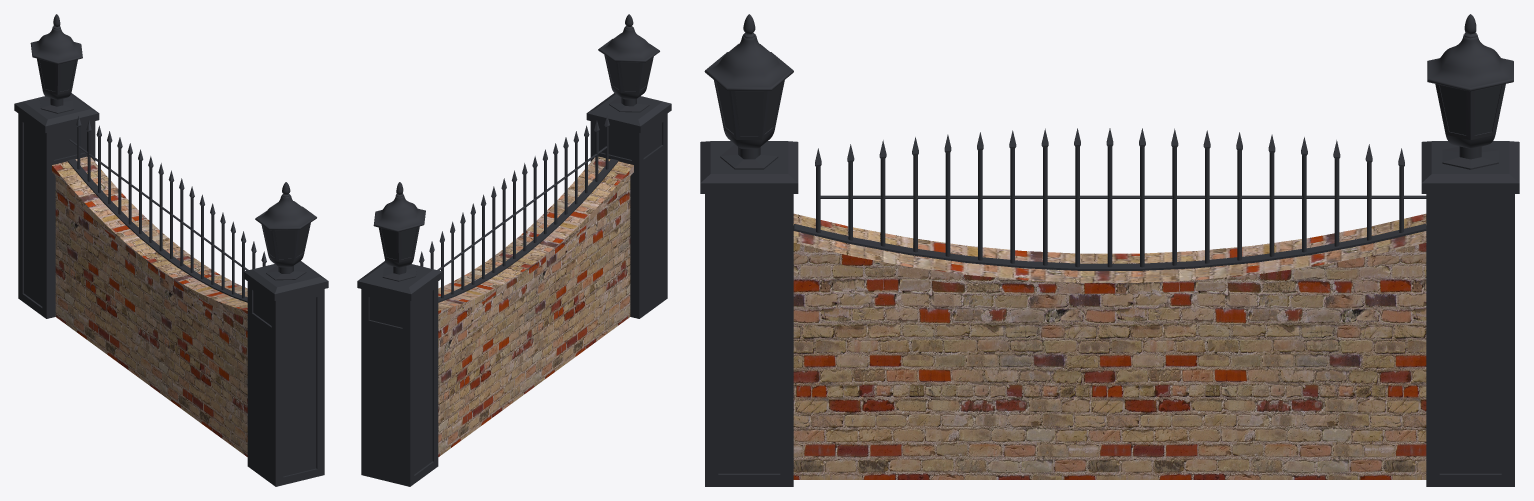
File: cerca_sola.obj
3 renders of one model, left to right at view 1: azimuth 30°, elevation 25°; view 2: azimuth 150°, elevation 25°; view 3: azimuth 270°, elevation 25°, orthographic. The views are drawn at different scales.
Parts seen in each view (by area): view 1: cerca; view 2: cerca; view 3: cerca.
Boxes of the visible parts, bbox=[...] form: cerca: bbox=[14, 14, 328, 486]; cerca: bbox=[357, 14, 671, 486]; cerca: bbox=[700, 14, 1519, 486].
Bounding box in the file's own units: 33.09 × 169 × 277.
Materials: 2 (1 with a texture image).
